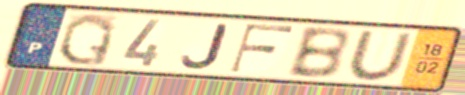4: (121, 18, 162, 68)
B: (284, 26, 352, 81)
F: (226, 22, 298, 75)
J: (179, 23, 231, 71)
Q: (54, 11, 119, 68)
U: (345, 29, 416, 83)
